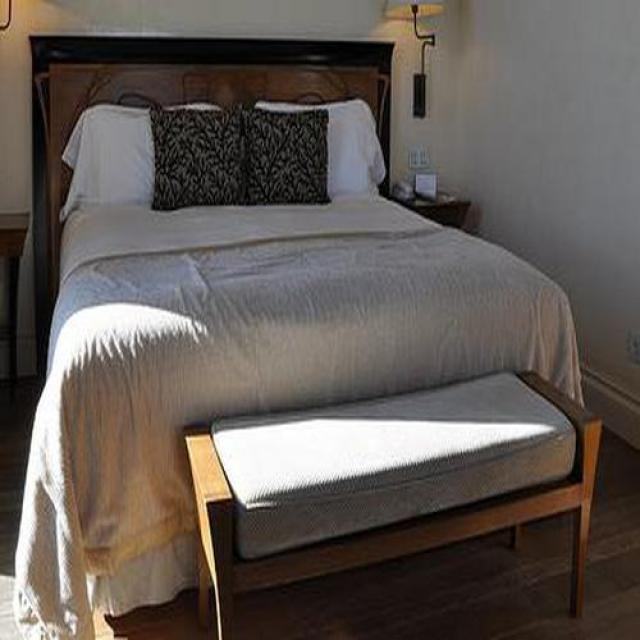bed: (12, 36, 584, 640)
